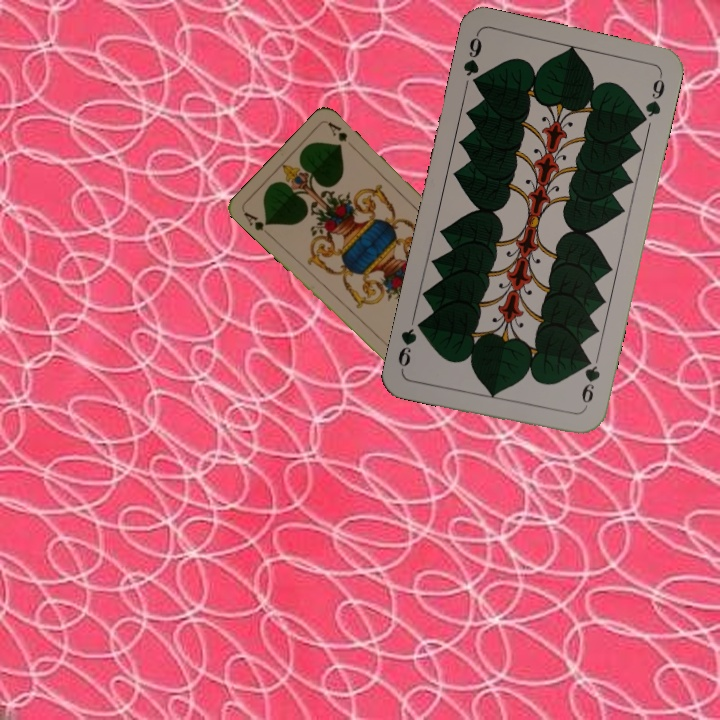G9: (577, 353, 603, 413), (459, 30, 484, 91)
GA: (239, 207, 272, 239)
